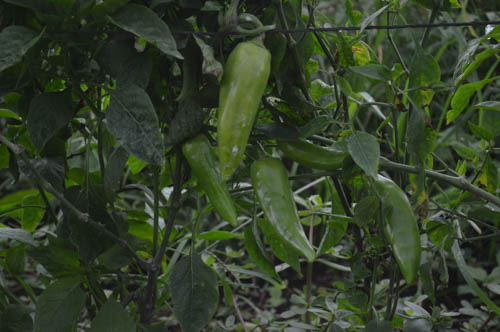ChiliPepper: (211, 38, 273, 194), (251, 156, 319, 261), (367, 171, 426, 286), (177, 135, 242, 233), (270, 121, 348, 174)
